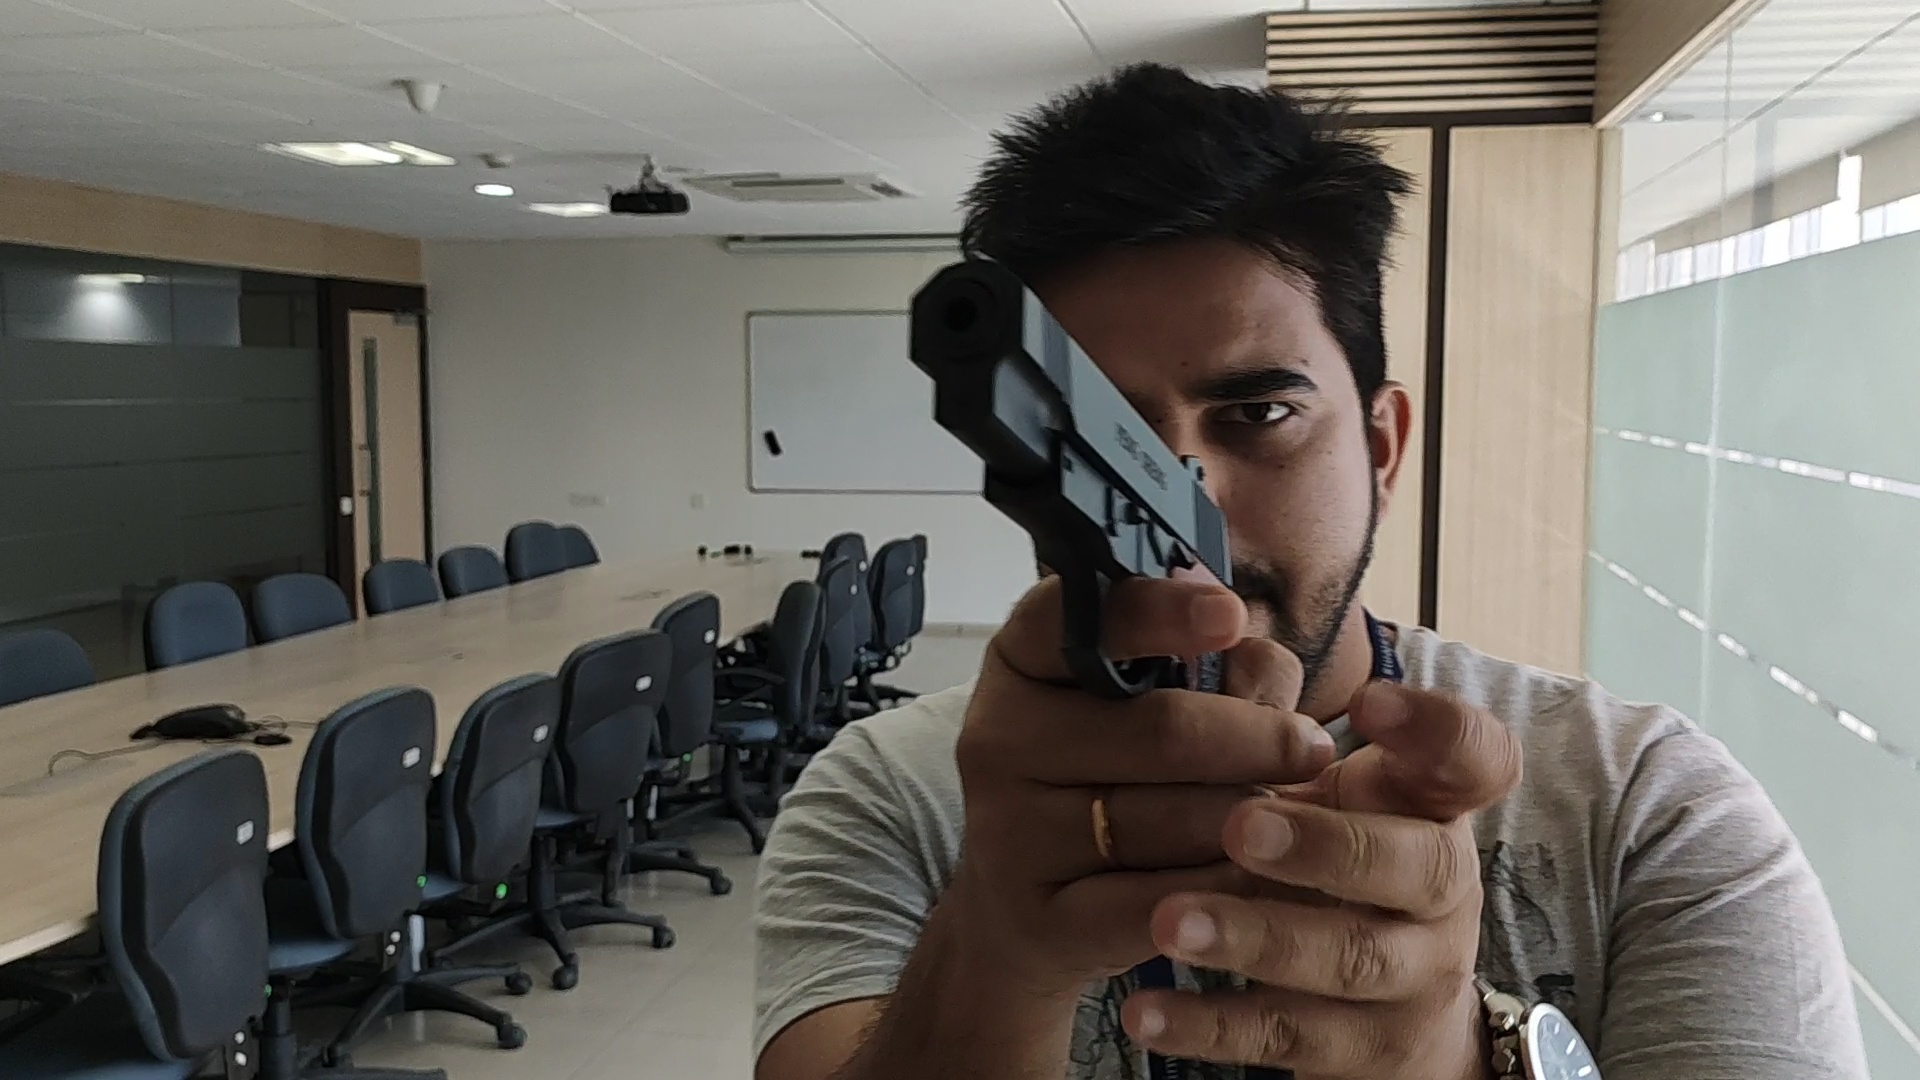gun: (907, 258, 1234, 582)
